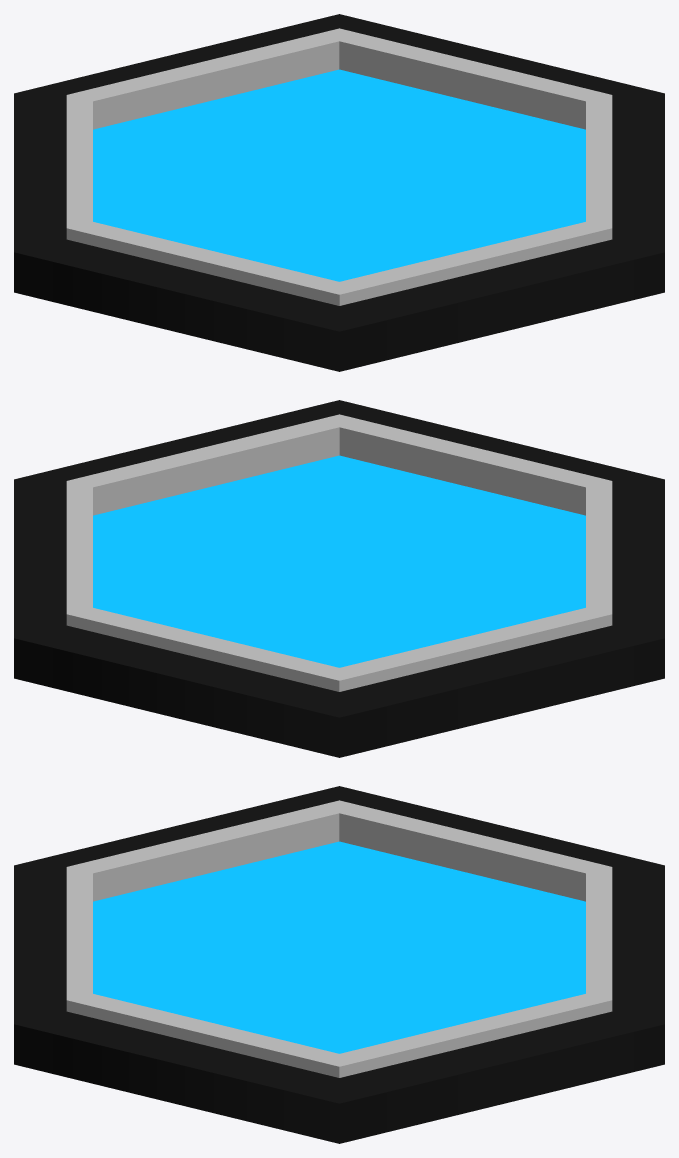
Rendered from Wall_Light.fbx.
The picture shows the model from 3 angles, top to bottom: view 1: azimuth 30°, elevation 25°; view 2: azimuth 150°, elevation 25°; view 3: azimuth 270°, elevation 25°; orthographic projection.
Visible parts, largest first — view 1: Cylinder007; view 2: Cylinder007; view 3: Cylinder007.
Boxes of the visible parts, x1,y1,x2,y2 form: Cylinder007: (14,14,664,371); Cylinder007: (14,400,664,757); Cylinder007: (14,786,664,1143).
Size of the model in its own units: 10.52 by 0.7958 by 9.11.
